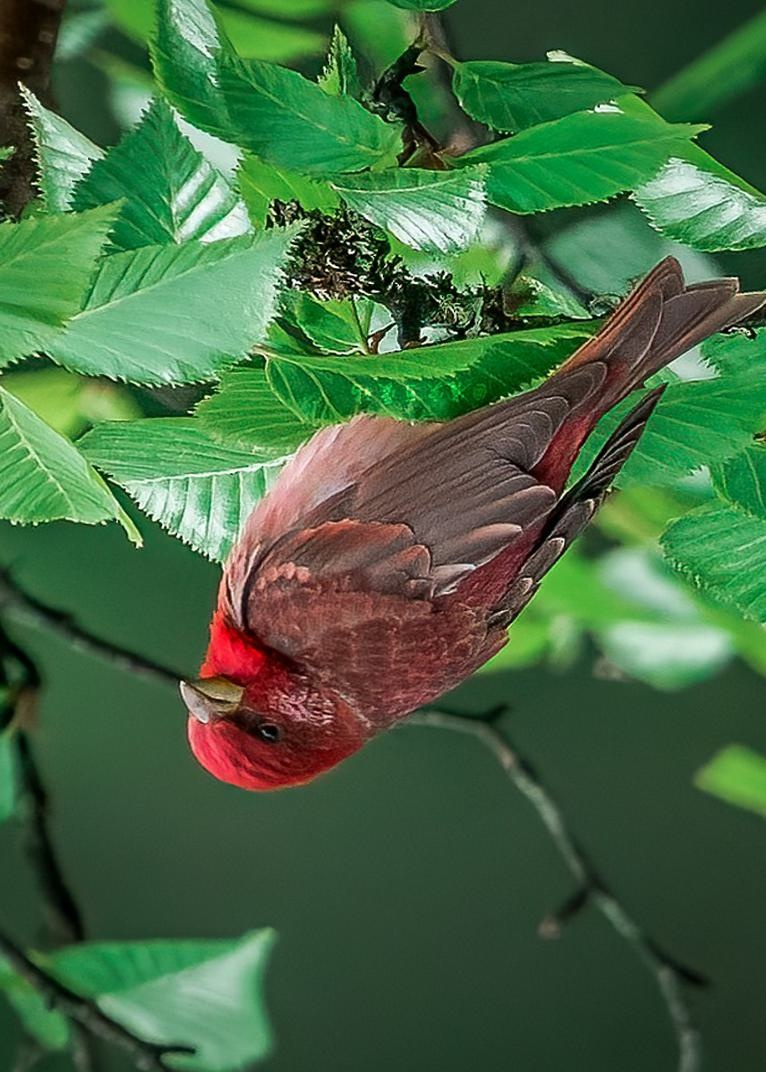rosefinch: (178, 290, 709, 825)
